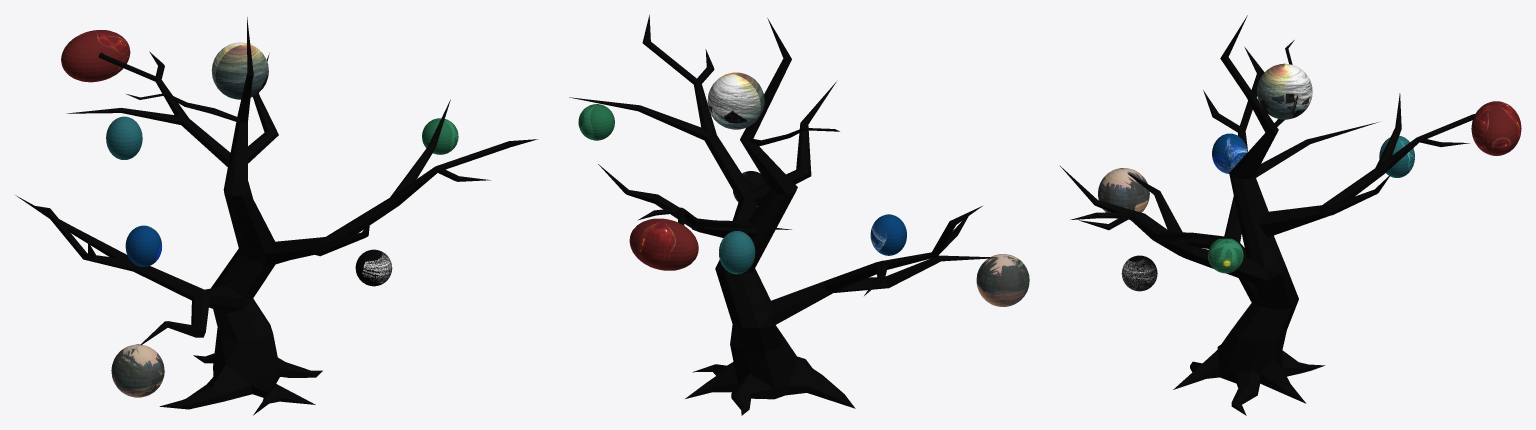
File: tree.gltf
The picture shows the model from 3 angles, left to right: view 1: azimuth 30°, elevation 25°; view 2: azimuth 150°, elevation 25°; view 3: azimuth 270°, elevation 25°; orthographic projection. The views are drawn at different scales.
Parts seen in each view (by area): view 1: tree, 4, 7, 1, 3, 2, 6, 5; view 2: tree, 4, 7, 1, 3, 2, 5; view 3: tree, 7, 4, 1, 2, 6, 5, 3.
Boxes of the visible parts, <box> form: tree: <box>15,17,538,415</box>; 4: <box>61,30,130,82</box>; 7: <box>211,42,268,99</box>; 1: <box>111,344,164,397</box>; 3: <box>106,116,142,159</box>; 2: <box>125,225,162,266</box>; 6: <box>355,249,392,286</box>; 5: <box>422,118,458,154</box>; tree: <box>569,14,996,415</box>; 4: <box>629,218,698,270</box>; 7: <box>707,72,764,129</box>; 1: <box>976,254,1029,306</box>; 3: <box>719,231,755,274</box>; 2: <box>870,214,906,255</box>; 5: <box>578,104,614,140</box>; tree: <box>1059,15,1475,415</box>; 7: <box>1256,63,1312,119</box>; 4: <box>1471,101,1521,155</box>; 1: <box>1098,168,1149,218</box>; 2: <box>1212,133,1247,173</box>; 6: <box>1121,255,1157,291</box>; 5: <box>1208,238,1243,273</box>; 3: <box>1379,135,1414,177</box>.
Bounding box in the file's own units: 26.43 × 22.58 × 25.85.
8 materials, 7 textured.
